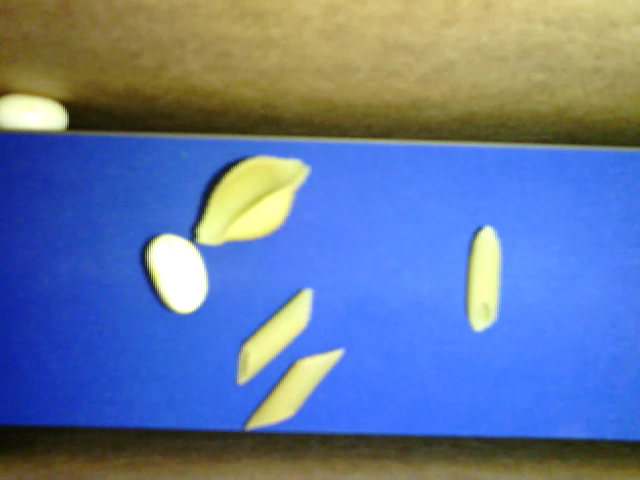penne: (244, 347, 346, 430), (235, 286, 314, 386), (467, 223, 502, 331)
shell: (194, 154, 311, 247)
